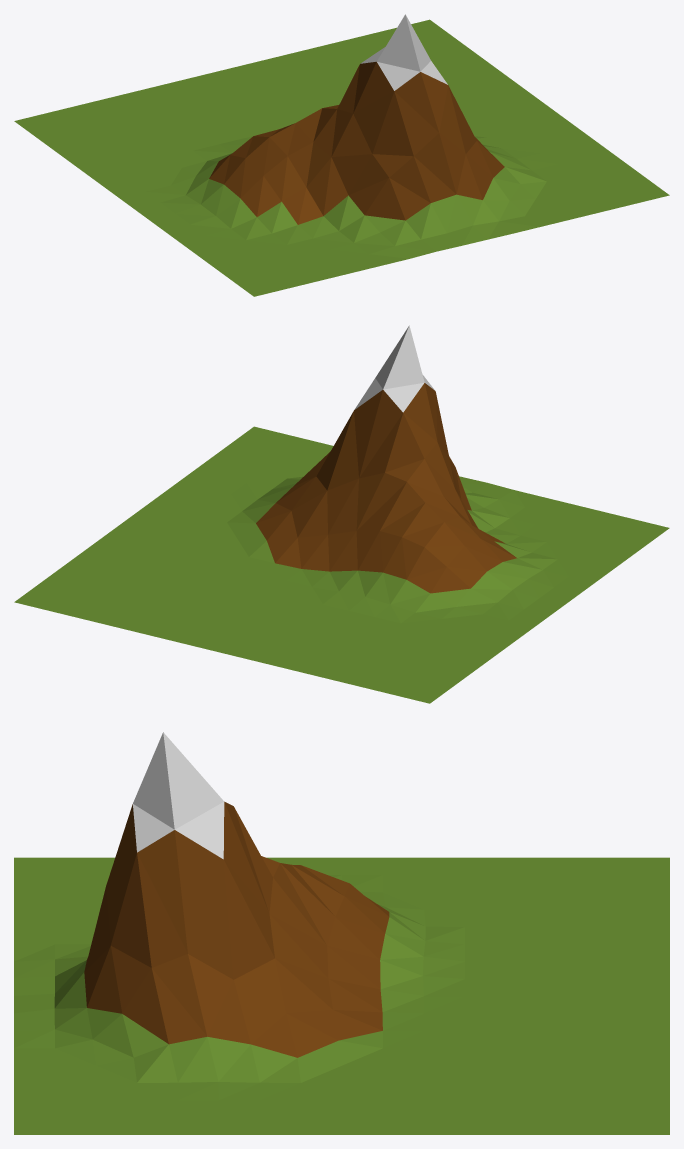
Rendered from mountain.fbx.
3 views of the same model, one above another, from view 1: azimuth 30°, elevation 25°; view 2: azimuth 150°, elevation 25°; view 3: azimuth 270°, elevation 25° (orthographic). The views are drawn at different scales.
Visible parts, largest first — view 1: Plane; view 2: Plane; view 3: Plane.
Part boxes in pixels (box(x1,y1,x2,y2)): Plane: box(14, 14, 669, 296); Plane: box(14, 325, 669, 703); Plane: box(14, 732, 669, 1134).
Size of the model in its own units: 1081 by 478 by 1081.
